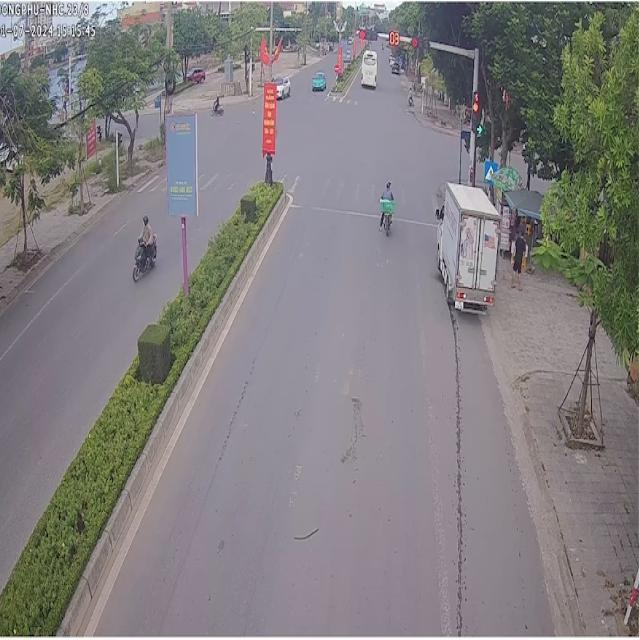car: (434, 180, 498, 311), (359, 48, 376, 85), (272, 75, 289, 97), (310, 68, 324, 89)
motobike: (130, 233, 154, 279), (378, 178, 393, 232)
red_light: (469, 87, 478, 135), (411, 34, 429, 50), (356, 28, 377, 38), (389, 30, 400, 46)
stop_line: (290, 203, 377, 216), (392, 216, 434, 225)
